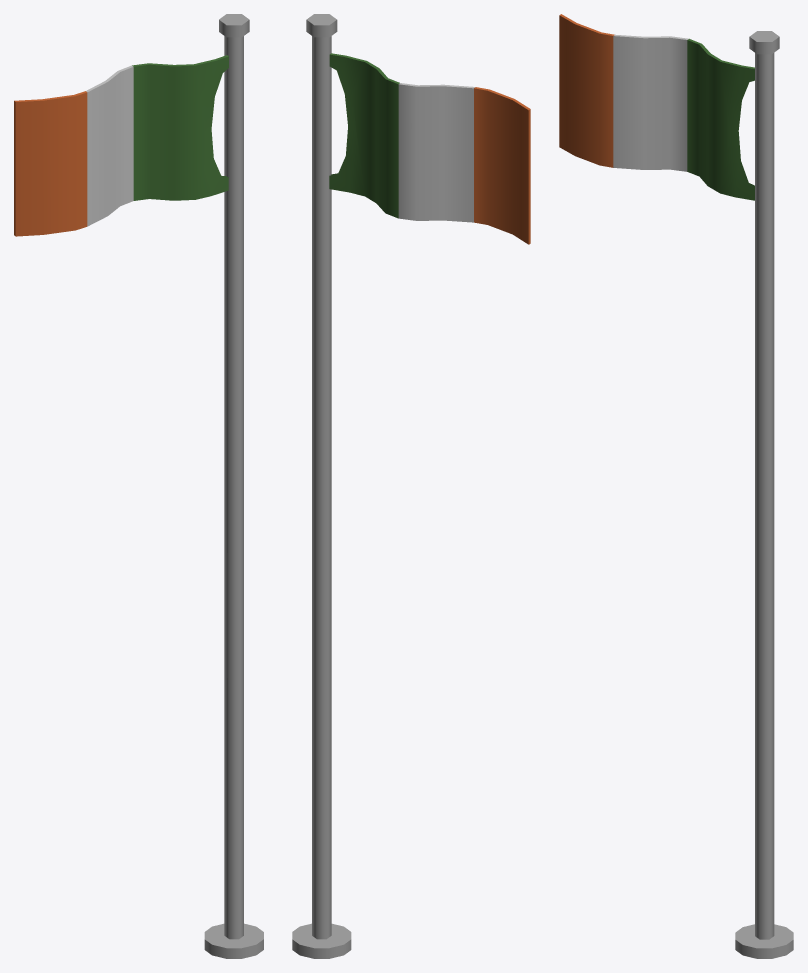
File: IrishFlag_02.fbx
3 views of the same model, side by side, from view 1: azimuth 30°, elevation 25°; view 2: azimuth 150°, elevation 25°; view 3: azimuth 330°, elevation 25° (orthographic).
Parts seen in each view (by area): view 1: IrishFlag_02; view 2: IrishFlag_02; view 3: IrishFlag_02.
Part boxes in pixels (x1=…): IrishFlag_02: x1=14, y1=14, x2=263, y2=958; IrishFlag_02: x1=292, y1=14, x2=530, y2=958; IrishFlag_02: x1=559, y1=14, x2=793, y2=958.
Bounding box in the file's own units: 0.646 × 2.39 × 0.1383.
